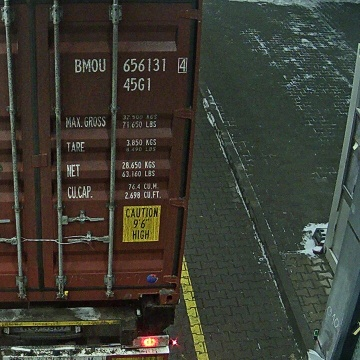serial_id: (74, 58, 186, 72)
